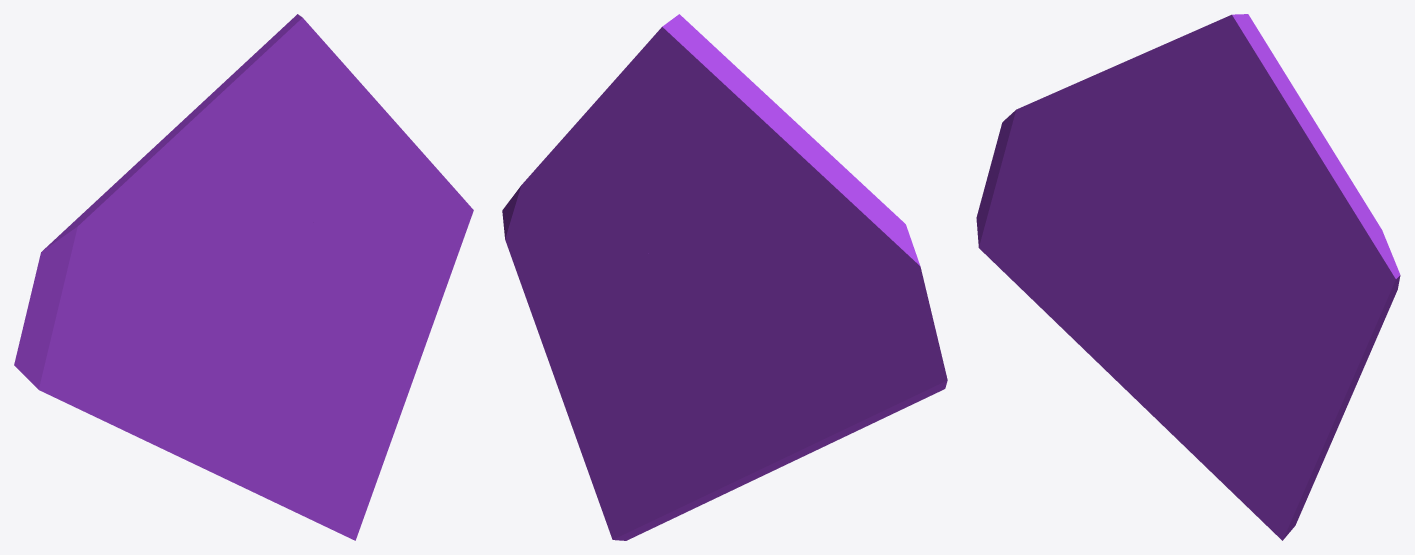
The model's file is Glass_83_1_22_chunks.fbx.
3 views of the same model, side by side, from view 1: azimuth 30°, elevation 25°; view 2: azimuth 150°, elevation 25°; view 3: azimuth 330°, elevation 25° (orthographic). The views are drawn at different scales.
Parts seen in each view (by area): view 1: Glass_83_1_22_0, Glass_83_1_22_1, Glass_83_1_22_3, Glass_83_1_22_2; view 2: Glass_83_1_22_0, Glass_83_1_22_1, Glass_83_1_22_3; view 3: Glass_83_1_22_0, Glass_83_1_22_1, Glass_83_1_22_3, Glass_83_1_22_2.
Part boxes in pixels (box(x1,y1,x2,y2)): Glass_83_1_22_0: box(14, 175, 288, 489); Glass_83_1_22_1: box(249, 196, 473, 540); Glass_83_1_22_3: box(122, 14, 410, 255); Glass_83_1_22_2: box(276, 139, 461, 283); Glass_83_1_22_0: box(686, 173, 947, 489); Glass_83_1_22_1: box(502, 180, 733, 540); Glass_83_1_22_3: box(535, 14, 850, 277); Glass_83_1_22_0: box(976, 86, 1218, 441); Glass_83_1_22_1: box(1180, 224, 1400, 540); Glass_83_1_22_3: box(1069, 14, 1368, 229); Glass_83_1_22_2: box(1206, 181, 1383, 262).
Size of the model in its own units: 636 by 727 by 27.2.
